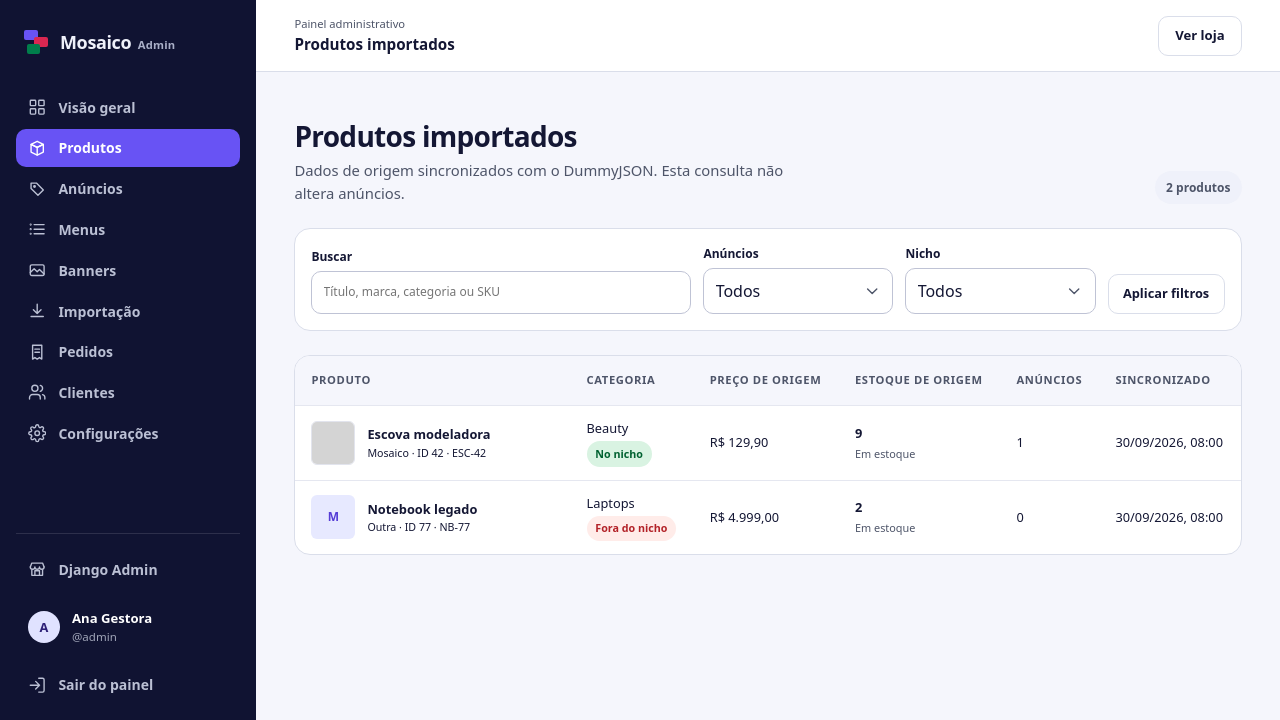
Test: Mosaico Admin › navigates across the read-only product, order and customer lists
Expected: the text "Escova modeladora" is shown, [367,426,491,445]
Expected: the text "R$ 129,90" is shown, [694,406,839,480]
What coordinates should you click on to do the following:
click the link "Pedidos"
I would click on:
 (71, 352)
Its box is [28,342,113,361].
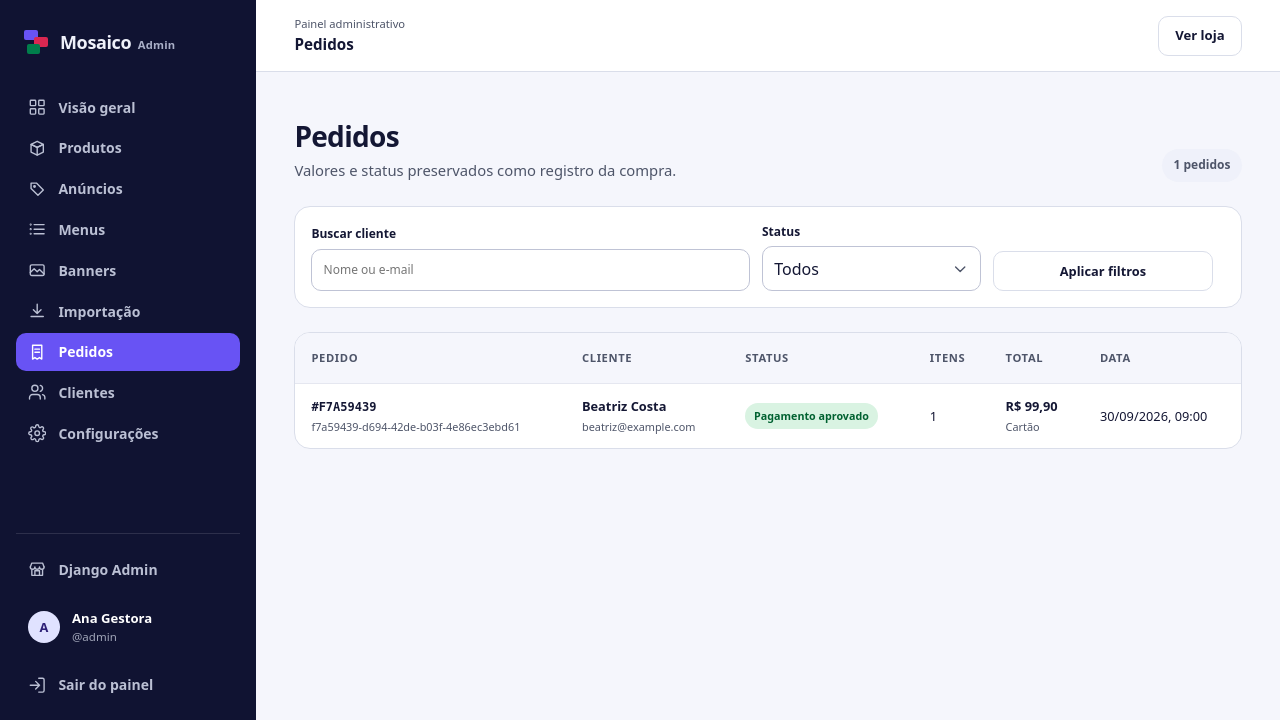
Expected: the text "Beatriz Costa" is shown, [582,397,666,415]
Expected: the text "Pagamento aprovado" is shown, [745,403,878,429]
What coordinates should you click on to do the following:
click the link "Clientes"
I would click on:
 (71, 393)
Its box is [28,383,115,402].
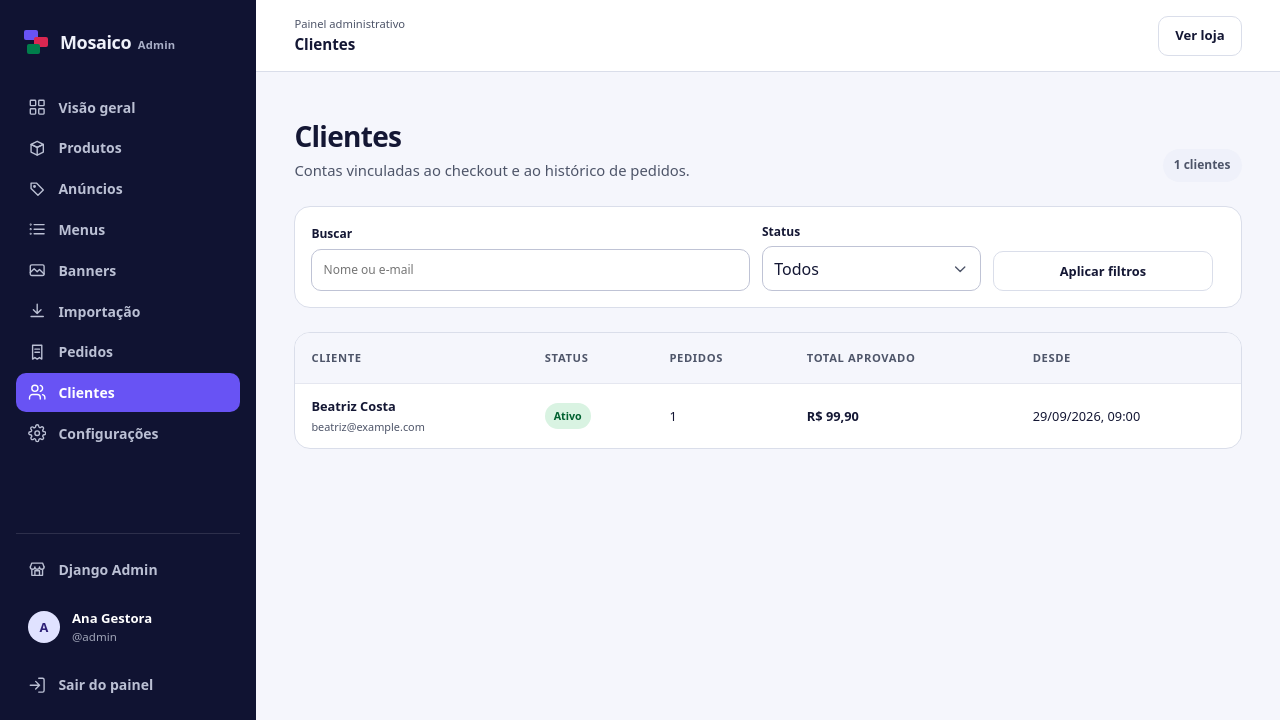
Expected: the text "beatriz@example.com" is shown, [311,419,425,434]
Expected: the text "Ativo" is shown, [545,403,590,429]
